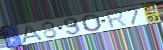7: (126, 6, 141, 25)
8: (41, 21, 59, 40)
9: (62, 17, 82, 36)
A: (21, 24, 45, 44)
O: (80, 13, 104, 33)
R: (104, 9, 129, 30)
